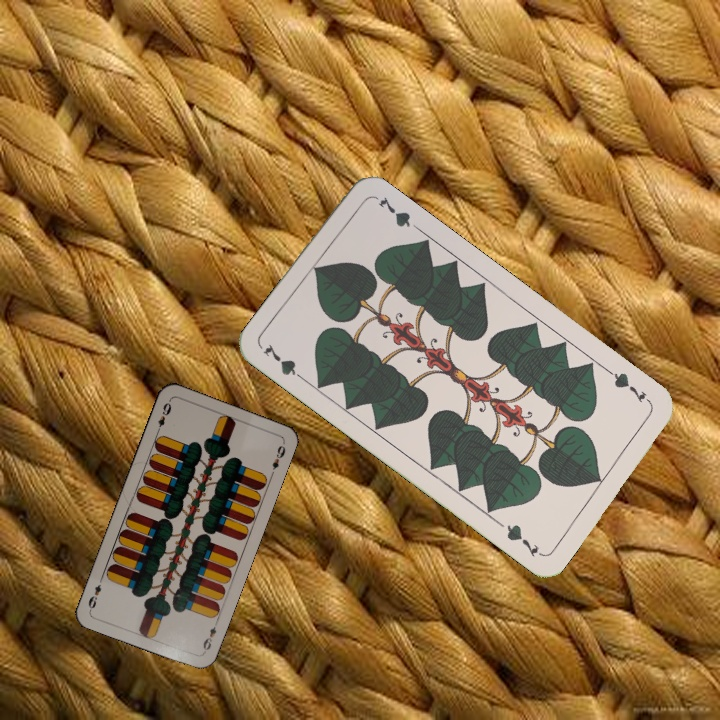E9: (152, 397, 174, 436), (199, 617, 220, 655)
G7: (259, 339, 310, 385), (604, 366, 655, 407)
